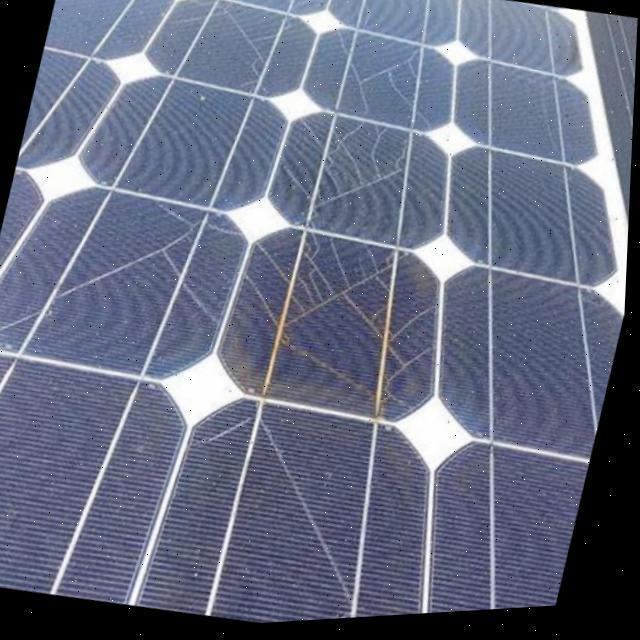Structural Damage: (263, 418, 362, 608), (89, 194, 223, 329), (288, 236, 410, 349), (303, 115, 418, 213), (352, 50, 432, 125), (227, 0, 288, 91), (387, 350, 436, 408), (391, 307, 442, 347), (183, 282, 225, 329), (248, 275, 284, 328), (203, 417, 262, 449), (259, 244, 298, 289), (328, 153, 365, 196), (284, 167, 317, 204), (0, 310, 47, 331), (302, 121, 328, 154), (211, 224, 245, 241), (417, 113, 437, 135), (338, 32, 351, 60)
